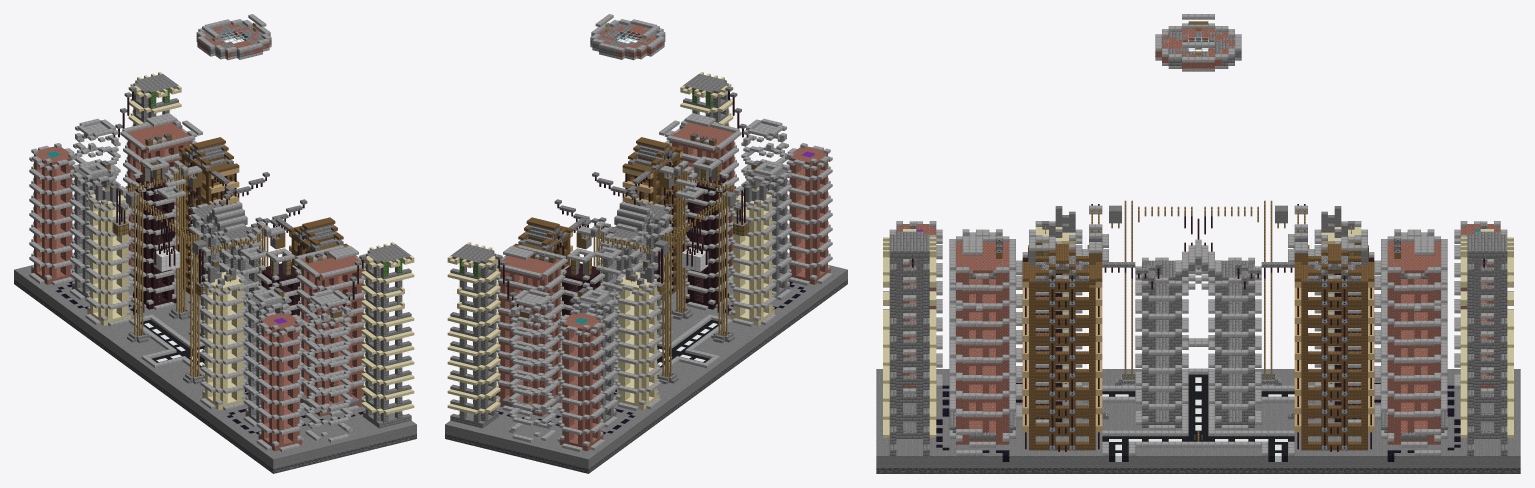
File: minecraft.obj
3 views of the same model, side by side, from view 1: azimuth 30°, elevation 25°; view 2: azimuth 150°, elevation 25°; view 3: azimuth 270°, elevation 25° (orthographic). The views are drawn at different scales.
Size of the model in its own units: 310 by 685 by 970.
